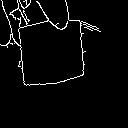cube: (16, 13, 89, 91)
